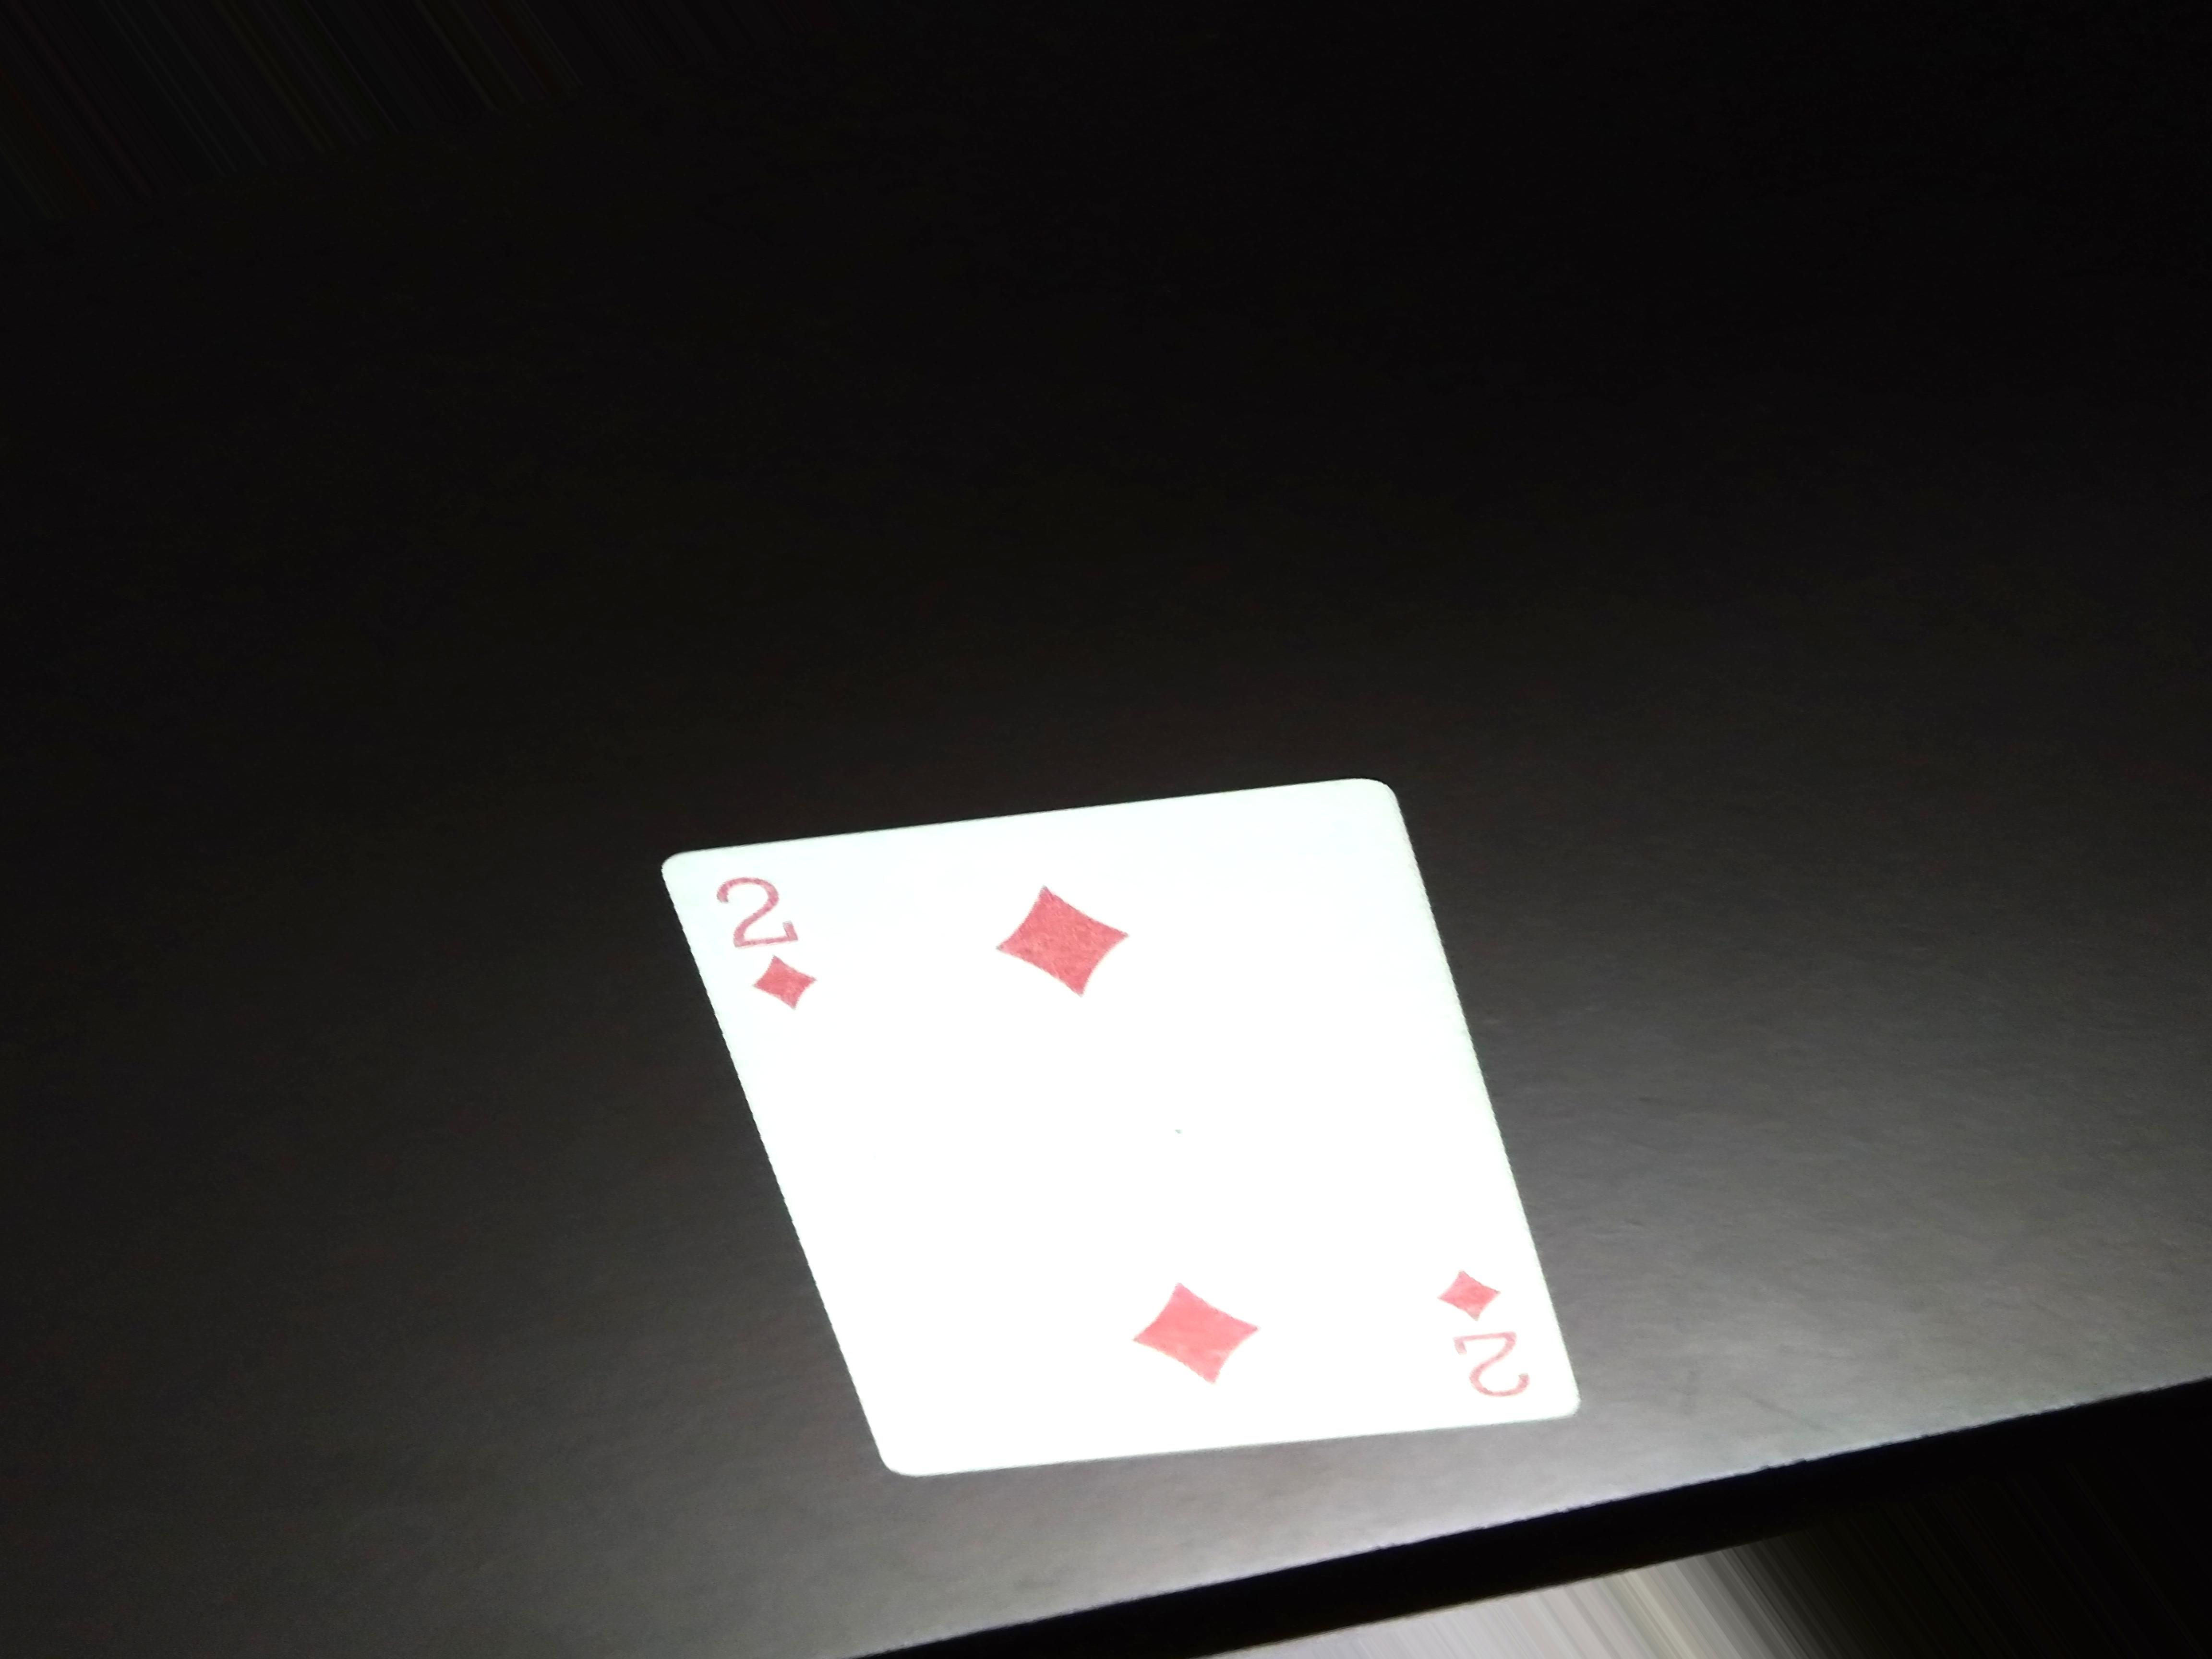2D: (695, 861, 833, 1035)
